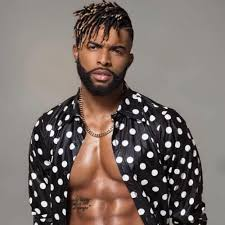black_male: (73, 7, 135, 92)
